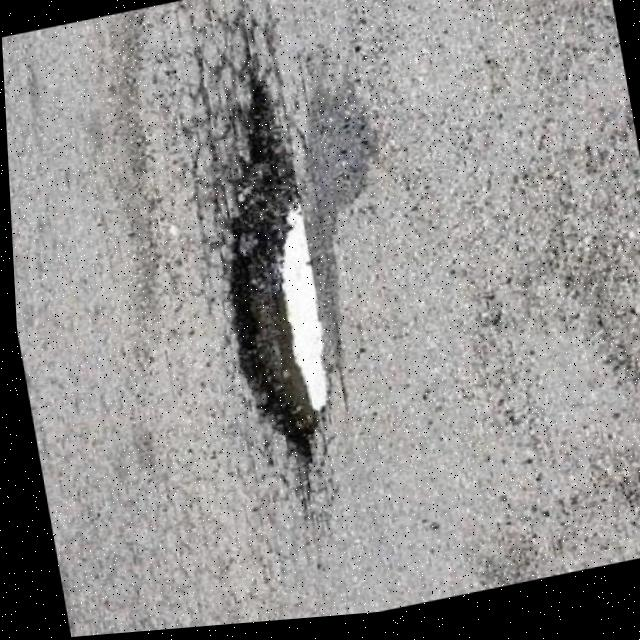Pothole: (174, 70, 346, 477)
